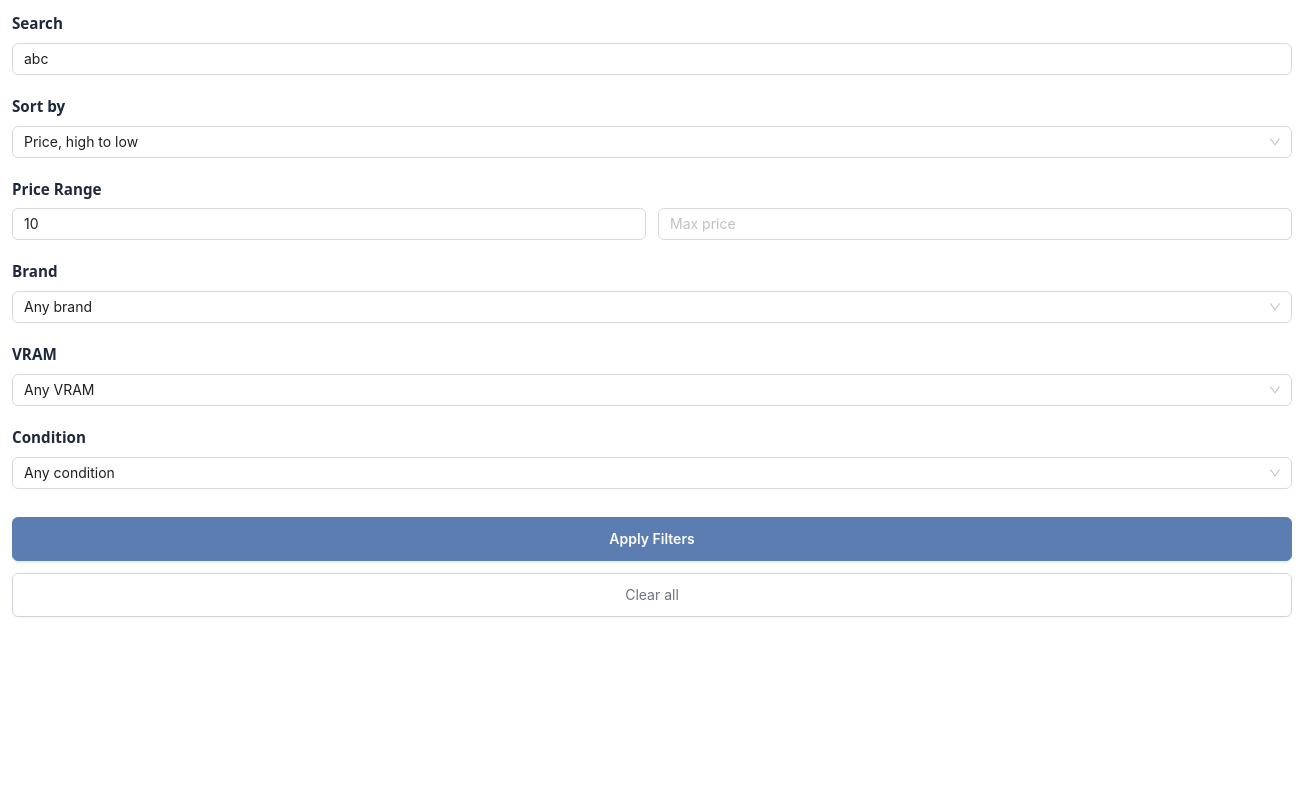
SearchFilters clear › clears fields and updates URL
The image size is (1304, 812).
Click the button "Clear all" at point(652, 595), box [12,573,1292,617]
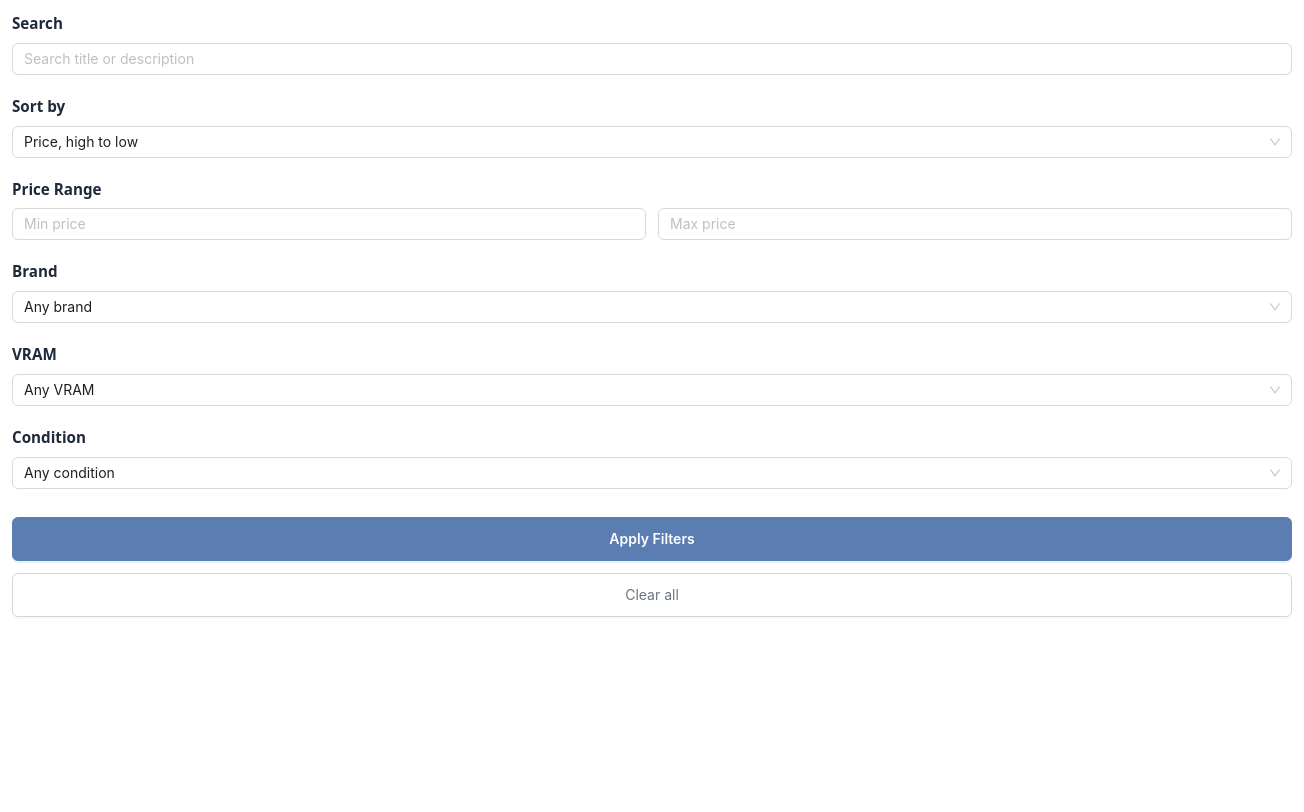
expect the field with placeholder "Search title or description" is empty: met, box [12,43,1292,75]
